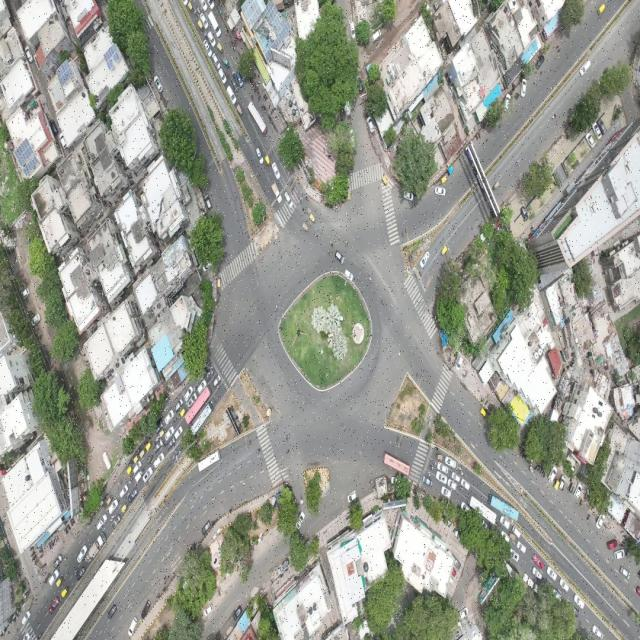3W: (594, 0, 608, 16), (60, 584, 70, 601), (56, 573, 66, 589), (196, 18, 205, 34), (381, 174, 390, 190), (492, 178, 501, 194), (552, 478, 561, 494), (506, 530, 517, 543), (264, 150, 271, 170), (301, 221, 311, 235), (478, 406, 488, 420), (120, 499, 129, 514), (105, 493, 115, 506), (236, 102, 244, 118), (440, 244, 449, 258), (216, 40, 224, 55), (447, 163, 456, 176), (126, 464, 135, 476), (145, 454, 154, 466), (179, 406, 188, 418), (308, 212, 317, 224), (439, 174, 448, 186), (187, 0, 194, 15), (435, 452, 444, 463), (158, 426, 166, 438), (133, 453, 140, 465), (139, 449, 147, 459), (144, 441, 152, 451)
Bus: (486, 487, 522, 523), (184, 383, 213, 424), (466, 492, 498, 528), (379, 448, 414, 479), (189, 402, 215, 438), (247, 98, 269, 139), (195, 448, 222, 474)
Cars: (596, 115, 609, 137), (200, 517, 214, 537), (417, 249, 431, 269), (152, 73, 164, 96), (580, 56, 592, 79), (400, 185, 415, 203), (590, 622, 605, 640), (77, 542, 89, 564), (127, 614, 138, 638), (96, 511, 108, 533), (254, 141, 264, 167), (295, 509, 306, 532), (271, 159, 282, 182), (106, 498, 120, 516), (201, 38, 213, 59), (532, 550, 546, 568), (518, 76, 528, 101), (49, 593, 60, 615), (354, 73, 365, 95), (163, 408, 175, 428), (232, 602, 244, 622), (584, 130, 596, 150), (546, 464, 558, 484), (618, 565, 634, 580), (500, 512, 512, 532), (573, 592, 586, 610), (20, 608, 32, 627), (48, 568, 60, 587), (226, 86, 238, 105), (590, 122, 602, 141), (518, 204, 530, 223), (594, 511, 606, 530), (432, 184, 448, 198), (506, 548, 520, 564), (110, 514, 123, 531), (444, 452, 457, 469), (107, 602, 118, 622), (141, 599, 151, 621), (202, 192, 213, 212), (348, 127, 357, 151), (370, 26, 382, 44), (152, 438, 166, 453), (284, 189, 294, 210), (434, 470, 448, 485), (206, 29, 217, 48), (211, 51, 222, 70), (342, 268, 355, 284), (531, 566, 544, 582), (127, 487, 139, 504), (534, 53, 546, 70), (216, 66, 227, 84), (348, 20, 357, 42), (153, 453, 166, 468), (142, 468, 154, 484), (203, 601, 215, 617), (334, 249, 346, 265), (552, 586, 562, 605), (367, 114, 376, 135), (197, 379, 208, 396), (195, 0, 209, 13), (436, 460, 449, 474), (421, 474, 434, 488), (346, 489, 360, 502), (76, 566, 88, 581), (199, 12, 209, 30), (572, 482, 582, 500), (118, 484, 129, 500), (547, 566, 558, 582), (460, 476, 471, 492), (559, 577, 570, 592), (460, 502, 471, 517), (133, 458, 142, 476), (503, 92, 510, 115), (165, 425, 175, 441), (188, 394, 198, 410), (229, 76, 239, 92), (234, 72, 244, 88), (614, 548, 624, 564), (512, 524, 522, 540), (439, 486, 452, 498), (516, 541, 527, 555), (53, 553, 63, 568), (174, 425, 184, 440), (213, 374, 223, 389), (606, 539, 618, 551), (207, 0, 218, 13), (558, 474, 565, 494), (447, 478, 457, 492), (500, 531, 510, 544), (451, 470, 461, 483), (167, 437, 176, 451), (176, 398, 183, 416), (185, 385, 192, 402)
LCV: (207, 6, 222, 40), (268, 179, 283, 206), (522, 571, 535, 593), (134, 468, 145, 482), (222, 54, 230, 69)
M2W: (550, 109, 558, 123), (35, 627, 43, 640), (29, 549, 39, 559), (109, 511, 116, 523), (117, 476, 124, 488), (329, 237, 336, 249), (379, 297, 387, 307), (359, 287, 365, 299), (148, 432, 155, 442), (514, 157, 521, 167), (255, 446, 262, 455), (64, 552, 69, 564), (74, 566, 80, 576), (55, 534, 61, 544), (195, 4, 201, 14), (248, 76, 254, 86), (300, 206, 306, 216), (327, 248, 333, 258), (128, 477, 135, 485), (337, 232, 342, 243), (578, 496, 583, 507), (63, 527, 69, 536), (136, 480, 142, 489), (151, 441, 157, 450), (163, 440, 169, 449), (298, 196, 304, 205), (314, 232, 320, 241), (368, 275, 374, 284), (369, 478, 375, 487), (47, 541, 52, 551), (50, 538, 55, 548), (136, 446, 141, 456), (242, 74, 247, 84), (269, 106, 274, 116), (274, 112, 279, 122), (129, 471, 136, 478), (29, 544, 35, 552), (34, 558, 40, 566), (66, 523, 72, 531), (144, 481, 150, 489), (231, 70, 237, 78), (496, 521, 502, 529), (155, 434, 160, 443), (249, 92, 254, 101), (586, 513, 591, 522), (216, 383, 222, 390), (304, 196, 311, 202), (514, 95, 520, 102), (457, 465, 464, 471), (161, 587, 167, 594), (176, 410, 181, 418), (206, 371, 211, 379), (231, 45, 236, 53), (263, 105, 267, 115), (71, 518, 77, 524), (196, 380, 202, 386), (212, 372, 216, 381), (204, 32, 208, 41), (257, 95, 261, 104), (620, 529, 626, 535), (458, 486, 464, 492), (429, 465, 435, 471), (173, 417, 178, 424), (206, 378, 211, 385), (193, 10, 198, 17), (200, 7, 205, 14), (432, 459, 437, 466), (426, 470, 431, 477), (193, 385, 197, 393), (226, 72, 230, 80), (251, 81, 255, 89), (514, 90, 518, 98), (209, 360, 214, 366), (345, 239, 350, 245), (435, 445, 440, 451), (263, 92, 266, 101), (144, 440, 148, 446), (172, 443, 176, 449), (260, 104, 263, 112), (524, 450, 526, 462), (618, 544, 624, 548), (458, 472, 464, 476), (543, 472, 546, 479), (268, 103, 270, 113), (520, 447, 522, 457), (522, 449, 524, 459), (256, 83, 262, 86), (526, 456, 528, 465), (540, 467, 543, 473)
Truck: (84, 530, 110, 568)
